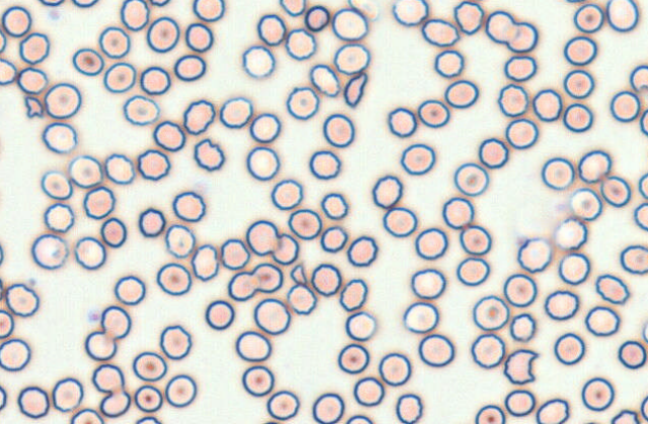PLT: (87, 307, 101, 322)
RBC: (253, 297, 290, 335), (472, 294, 509, 331), (44, 82, 81, 119), (516, 236, 552, 273), (31, 233, 68, 269), (245, 219, 279, 256), (331, 7, 368, 41), (470, 333, 505, 368), (418, 333, 454, 367), (67, 154, 103, 188), (453, 162, 489, 196), (333, 42, 370, 75), (5, 282, 39, 317), (245, 146, 280, 180), (159, 324, 192, 360), (182, 99, 215, 135), (146, 16, 179, 52), (402, 301, 439, 333), (503, 273, 537, 307), (577, 149, 611, 183), (285, 86, 319, 120), (541, 156, 575, 190), (581, 376, 614, 411), (156, 262, 191, 295), (322, 112, 355, 147), (235, 330, 271, 362), (41, 121, 77, 153), (399, 143, 435, 175), (122, 94, 159, 125), (553, 217, 587, 250), (82, 185, 115, 219), (378, 352, 411, 386), (414, 227, 448, 260), (241, 45, 275, 78), (51, 377, 83, 412), (287, 208, 322, 240), (410, 268, 446, 299), (584, 305, 620, 336), (421, 18, 459, 47), (441, 196, 474, 229), (569, 187, 602, 220), (371, 174, 403, 208), (485, 9, 517, 43), (74, 236, 106, 270), (219, 96, 253, 128), (544, 289, 579, 320), (382, 206, 417, 237), (191, 243, 219, 281), (17, 385, 49, 418), (164, 374, 196, 407), (553, 332, 585, 365), (152, 120, 185, 152), (172, 190, 205, 222), (558, 252, 590, 285), (270, 178, 303, 210), (98, 25, 130, 58), (605, 0, 638, 32), (103, 61, 136, 93), (100, 305, 131, 339), (164, 224, 195, 258), (595, 273, 629, 304), (309, 63, 340, 97), (453, 0, 484, 34), (497, 83, 528, 117), (563, 35, 597, 66), (132, 351, 167, 381), (284, 28, 316, 60), (84, 330, 117, 361), (0, 338, 31, 371), (310, 263, 341, 296), (241, 365, 274, 396), (311, 392, 344, 423), (266, 389, 299, 420), (137, 149, 170, 180), (505, 118, 538, 149), (91, 363, 125, 393), (456, 256, 490, 286), (251, 262, 283, 293), (286, 283, 317, 315), (344, 310, 376, 341), (337, 343, 369, 374), (506, 21, 538, 52), (346, 235, 377, 267), (459, 224, 491, 255), (104, 152, 135, 184), (609, 90, 640, 122), (600, 175, 631, 207), (249, 112, 281, 143), (308, 149, 341, 179), (19, 31, 49, 64), (532, 88, 562, 121), (417, 98, 450, 128), (444, 79, 478, 108), (391, 0, 428, 26), (220, 238, 250, 270), (352, 376, 384, 406), (256, 13, 286, 45), (1, 5, 31, 37), (40, 170, 72, 200), (339, 278, 368, 311), (227, 271, 258, 301), (204, 299, 234, 330), (43, 202, 74, 232), (114, 275, 145, 305), (387, 106, 417, 137), (139, 65, 170, 95), (478, 137, 508, 168), (563, 69, 594, 99), (562, 102, 593, 132), (573, 3, 604, 33), (72, 47, 104, 76), (271, 232, 299, 265), (120, 0, 149, 31), (433, 49, 464, 78), (173, 54, 206, 81), (535, 397, 569, 423), (184, 22, 213, 52), (17, 66, 48, 94), (99, 390, 131, 417), (503, 55, 536, 81), (617, 340, 646, 369), (395, 393, 423, 423), (138, 207, 166, 237), (619, 244, 647, 274), (504, 389, 535, 416), (134, 384, 163, 412), (509, 312, 536, 342), (100, 217, 127, 247), (320, 225, 348, 253), (320, 192, 348, 220), (304, 4, 330, 31), (192, 0, 224, 21), (347, 0, 378, 20), (474, 404, 505, 423), (70, 408, 104, 423), (629, 64, 647, 92), (0, 57, 17, 85), (278, 0, 305, 16), (0, 309, 14, 338), (610, 409, 639, 423), (633, 202, 647, 230), (345, 414, 373, 423), (638, 172, 647, 199), (640, 394, 648, 421), (639, 108, 647, 135), (135, 415, 161, 423), (71, 0, 99, 7), (0, 385, 7, 410), (38, 0, 64, 6), (0, 29, 6, 53), (642, 320, 648, 343), (149, 0, 170, 6), (261, 419, 284, 424), (0, 277, 4, 301), (0, 243, 4, 265), (563, 0, 586, 3)
Schistocyte: (505, 350, 540, 385), (194, 138, 227, 171), (343, 73, 368, 109), (290, 262, 312, 289), (22, 95, 44, 118)
